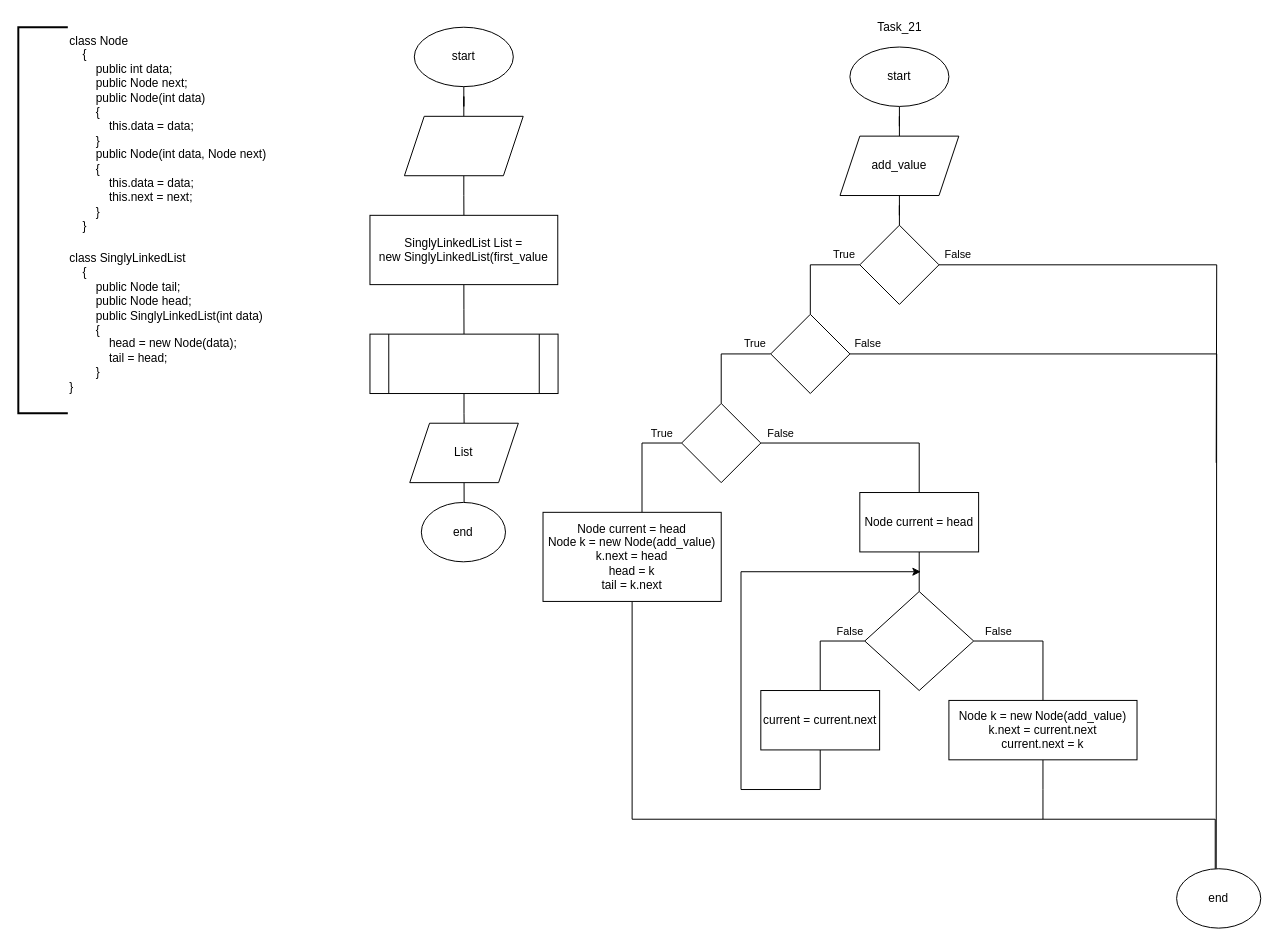
The diagram is 1278 pixels wide and 945 high, and some of its shapes have lost their labels. Here are the shapes that lost their labels. From the top down, the centre of each, then its label:
the point at 463,145: first_value add_value
the point at 899,264: value > 0
the point at 463,363: List.Task_21(add_value)
the point at 810,353: value < 51
the point at 721,442: head = tail
the point at 919,641: current.next != tail
